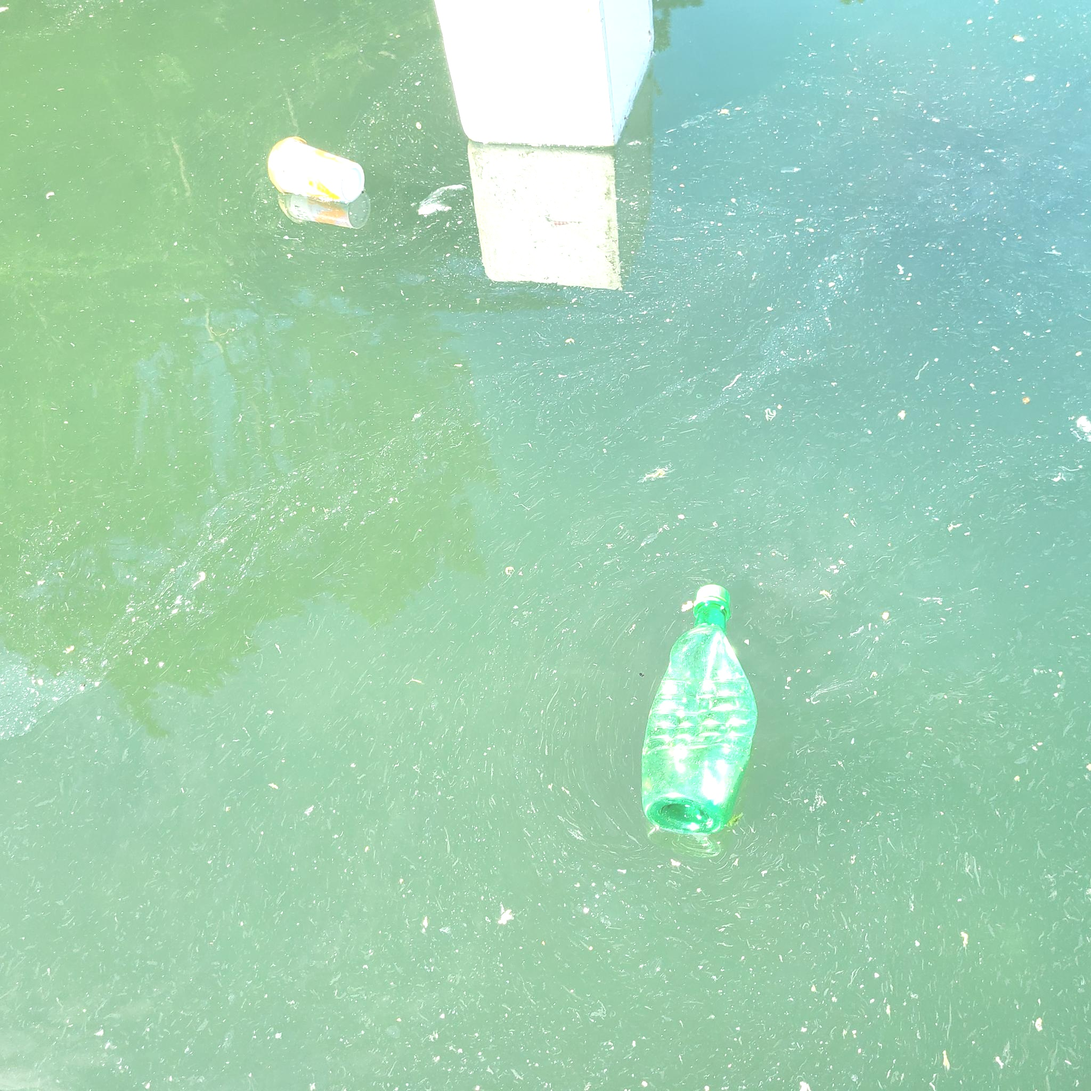sampah_terapung: (435, 1, 654, 146), (642, 585, 758, 835), (268, 136, 365, 204)
